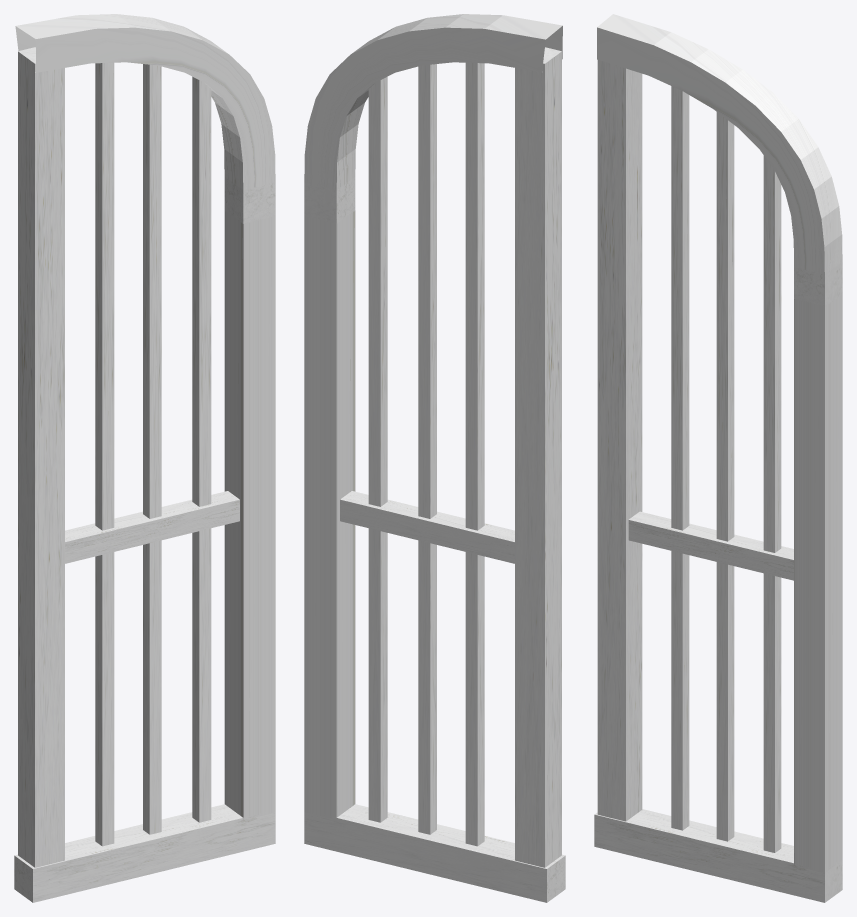
Rendered from p2Der.obj.
The picture shows the model from 3 angles, left to right: view 1: azimuth 30°, elevation 25°; view 2: azimuth 150°, elevation 25°; view 3: azimuth 330°, elevation 25°; orthographic projection. The views are drawn at different scales.
Visible parts, largest first — view 1: p2Der:polySurface40; view 2: p2Der:polySurface40; view 3: p2Der:polySurface40.
Part boxes in pixels (x1,y1,x2,y2): p2Der:polySurface40: [14, 14, 275, 902]; p2Der:polySurface40: [304, 14, 565, 902]; p2Der:polySurface40: [594, 14, 842, 902].
Bounding box in the file's own units: 1.88 × 6.37 × 0.25.
Materials: 1 (1 with a texture image).
